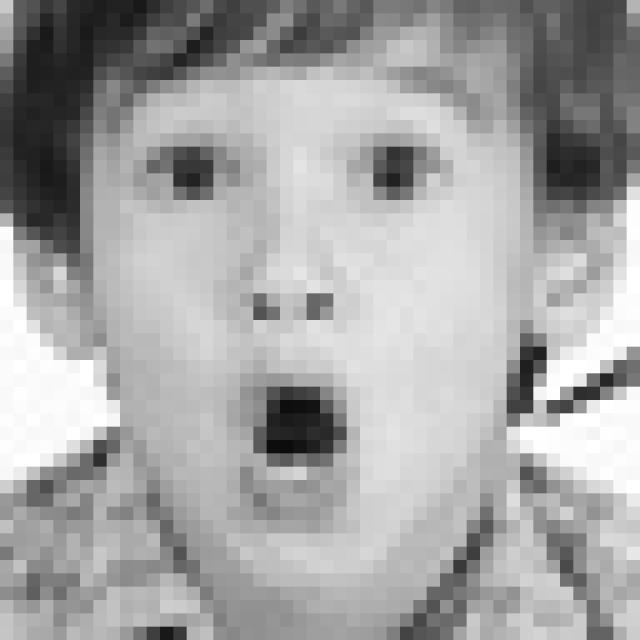surprise: (121, 40, 498, 526)
